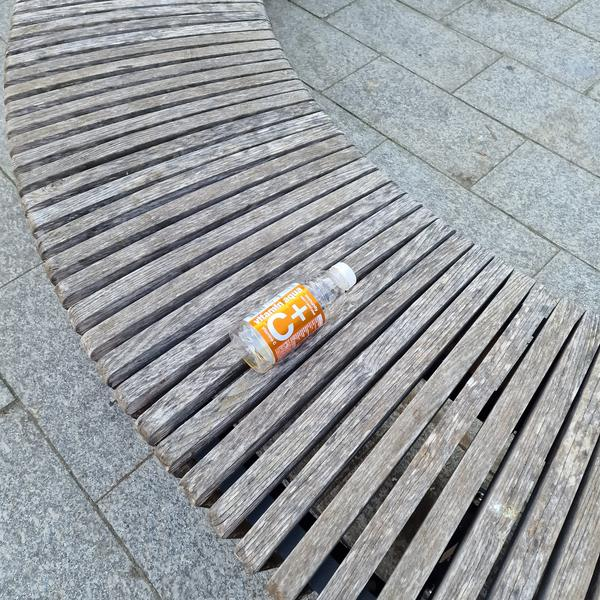plastic_bottle: (223, 242, 370, 379)
